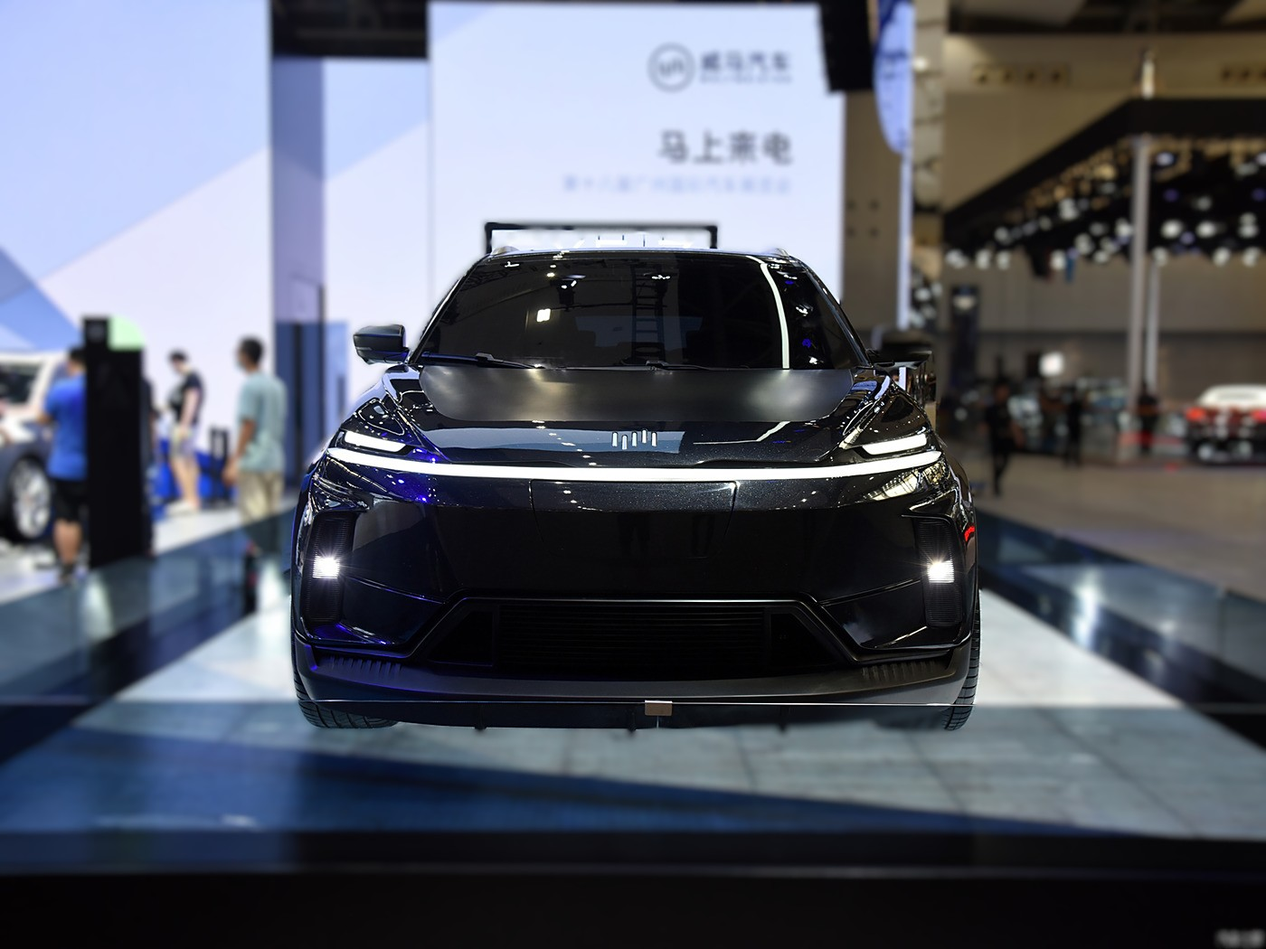WELTMEISTER: (613, 430, 656, 450)
